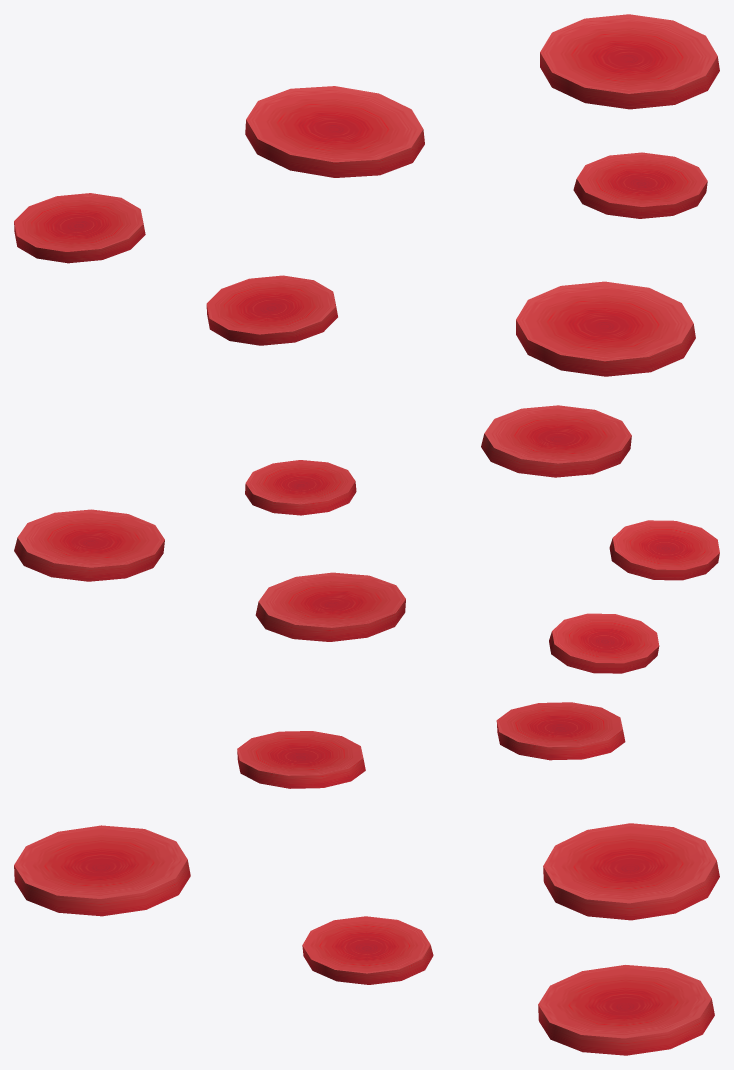
File: food_ingredient_pepperoni_slices.gltf
3 views of the same model, one above another, from view 1: azimuth 30°, elevation 25°; view 2: azimuth 150°, elevation 25°; view 3: azimuth 270°, elevation 25° (orthographic). The views are drawn at different scales.
Parts seen in each view (by area): view 1: food_ingredient_pepperoni_slices; view 2: food_ingredient_pepperoni_slices; view 3: food_ingredient_pepperoni_slices.
Part boxes in pixels (left/top/right/bottom): food_ingredient_pepperoni_slices: left=14, top=14, right=719, bottom=376; food_ingredient_pepperoni_slices: left=14, top=405, right=719, bottom=673; food_ingredient_pepperoni_slices: left=14, top=702, right=719, bottom=1055.
Size of the model in its own units: 1.23 by 0.0422 by 1.07.
Materials: 1 (1 with a texture image).
